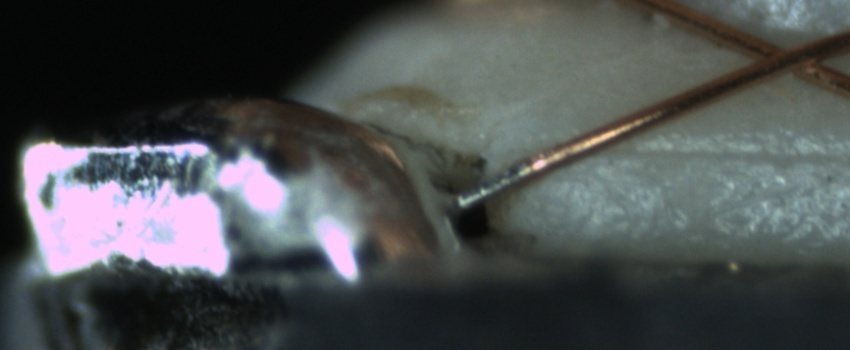CL: (739, 27, 840, 86)
DL: (579, 124, 843, 186)
TS: (451, 162, 525, 209)
